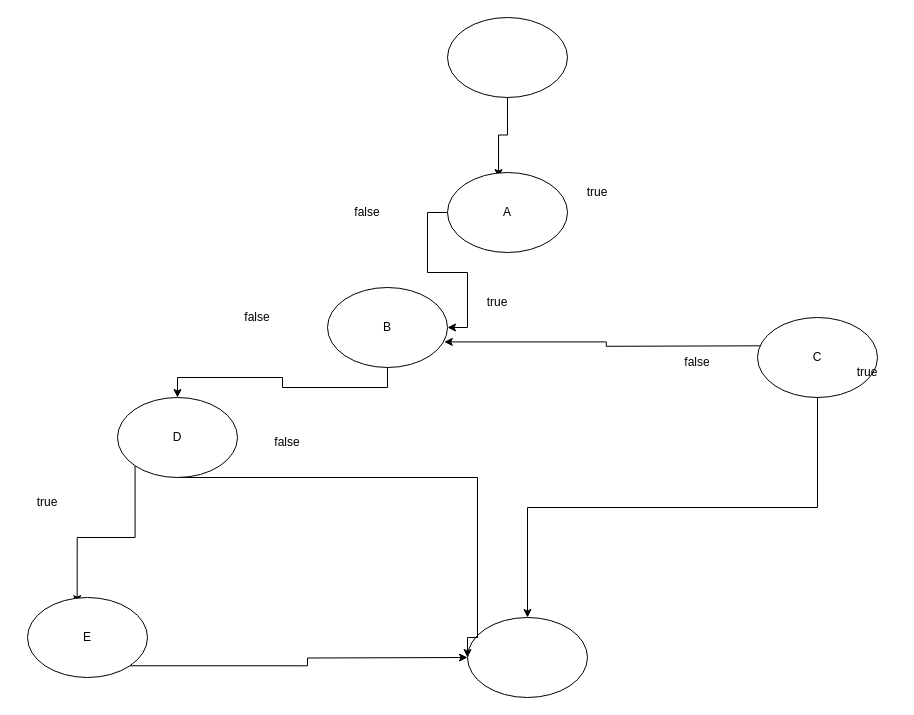
The diagram is 914 pixels wide and 715 high, and some of its shapes have lost their labels. The shapes that lost their labels are listed below. From the top down, each one's box as (x1, y1, x2, y2) in pixels, then its label:
(446, 16, 568, 98): Inicio
(466, 616, 588, 698): final
